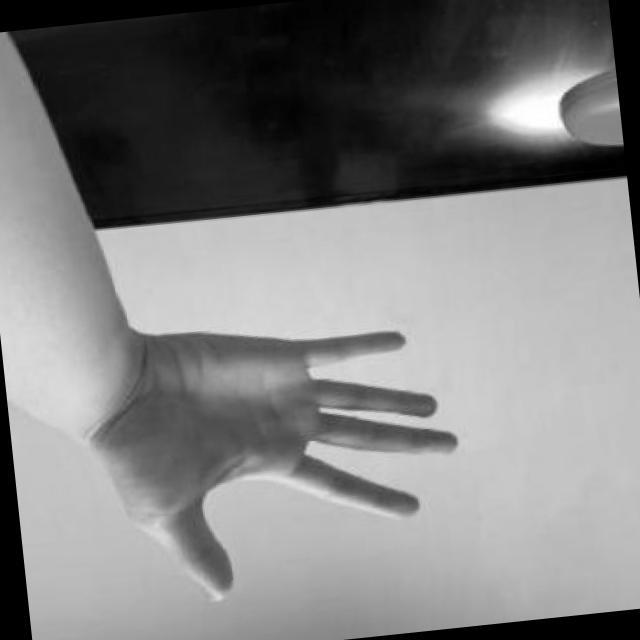without_gloves: (61, 288, 492, 630)
